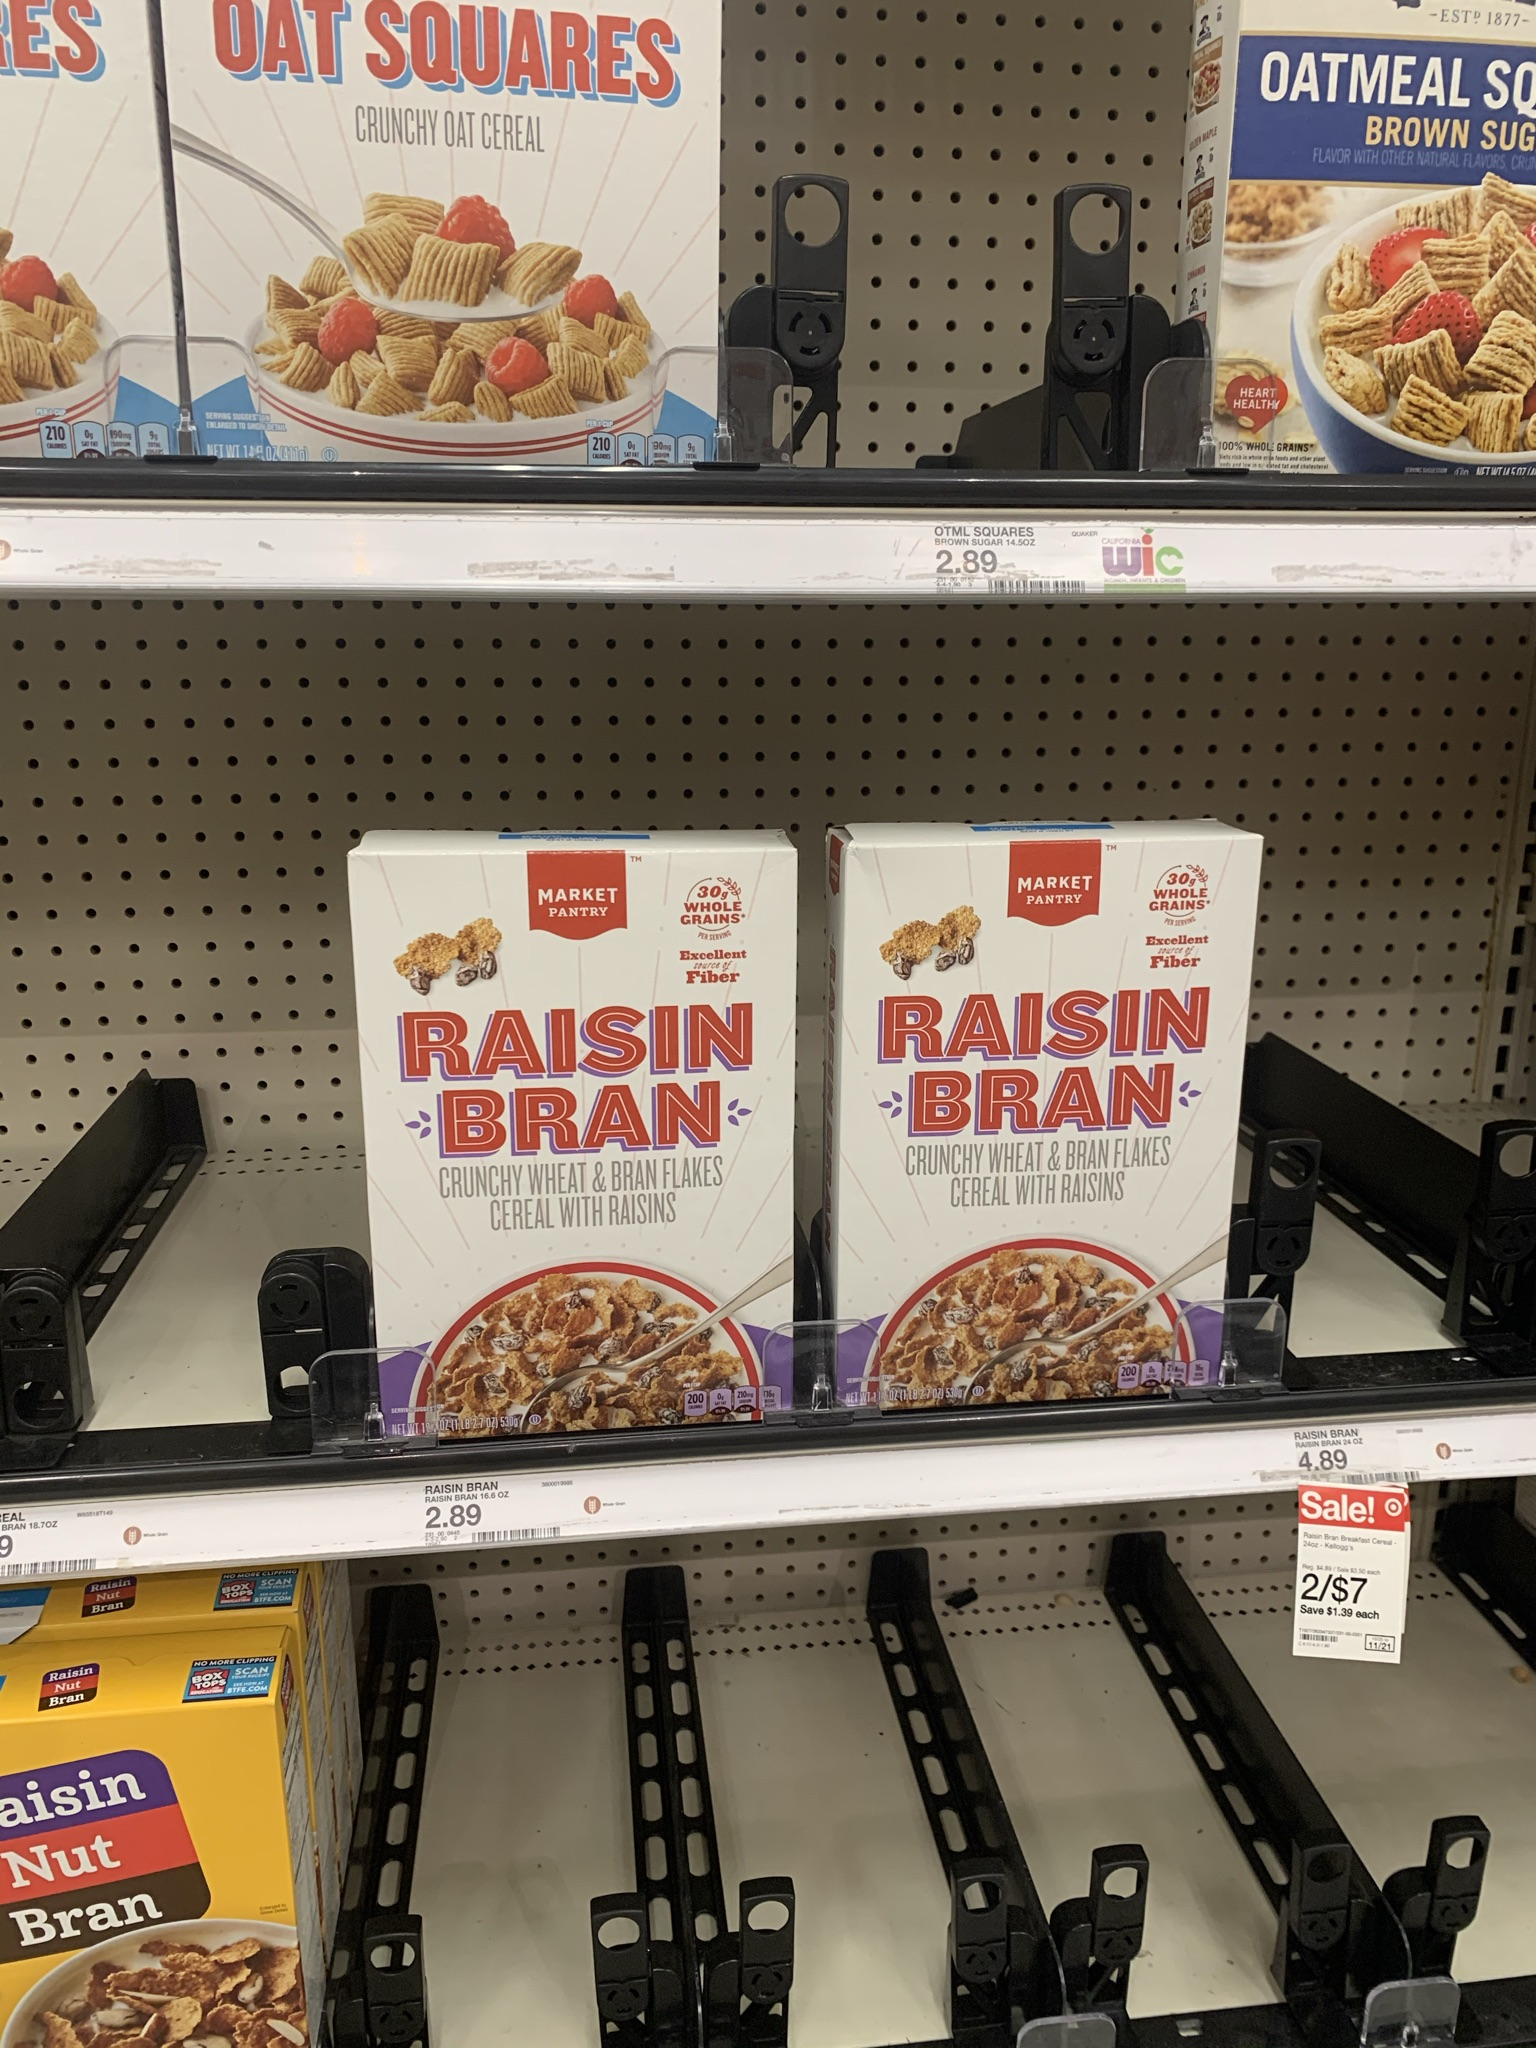Cereal: (337, 842, 803, 1434), (829, 830, 1265, 1421)
